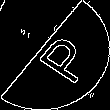P_NW: (20, 25, 90, 85)
